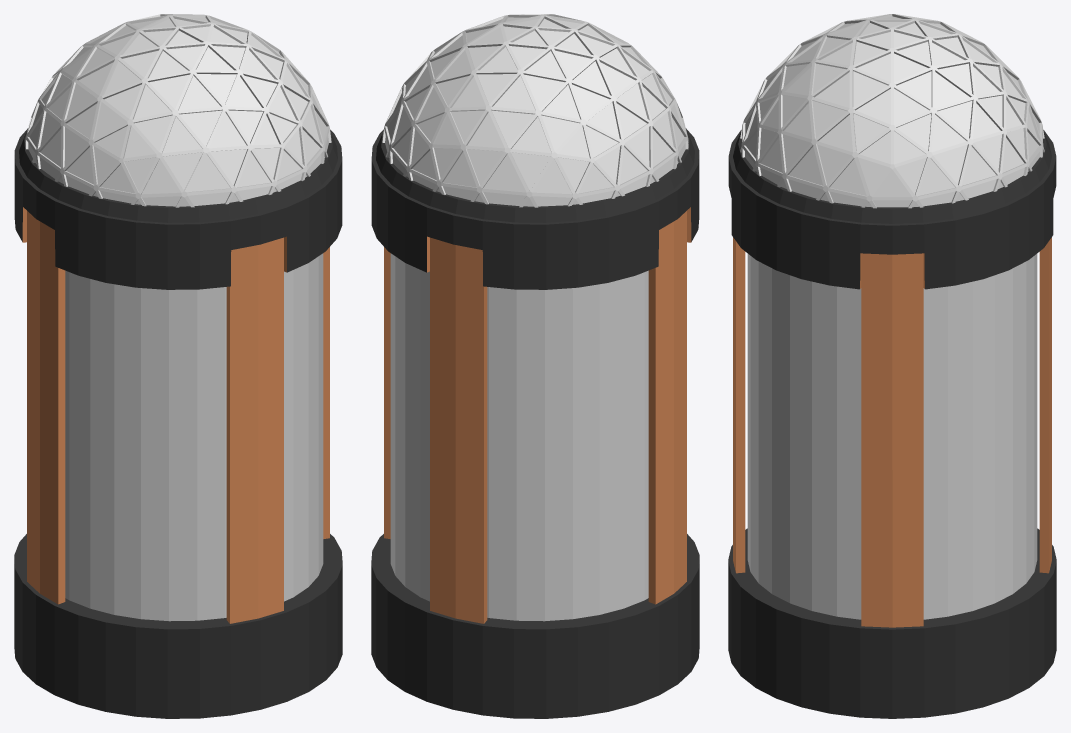
The model's file is BatteryCoil.fbx.
3 views of the same model, side by side, from view 1: azimuth 30°, elevation 25°; view 2: azimuth 150°, elevation 25°; view 3: azimuth 270°, elevation 25° (orthographic).
Parts seen in each view (by area): view 1: Glas, Sehll, Icosphere, BottomCylinder; view 2: Glas, Sehll, Icosphere, BottomCylinder; view 3: Glas, Sehll, Icosphere, BottomCylinder.
Boxes of the visible parts, box(x1,y1,x2,y2) form: Glas: box(65, 253, 323, 621); Sehll: box(14, 128, 342, 623); Icosphere: box(25, 14, 331, 207); BottomCylinder: box(14, 534, 342, 718); Glas: box(390, 253, 648, 621); Sehll: box(371, 128, 699, 623); Icosphere: box(382, 14, 688, 207); BottomCylinder: box(371, 534, 699, 718); Glas: box(747, 253, 1037, 619); Sehll: box(728, 130, 1056, 627); Icosphere: box(740, 14, 1044, 208); BottomCylinder: box(728, 528, 1056, 718).
Bounding box in the file's own units: 206 × 429 × 206.
